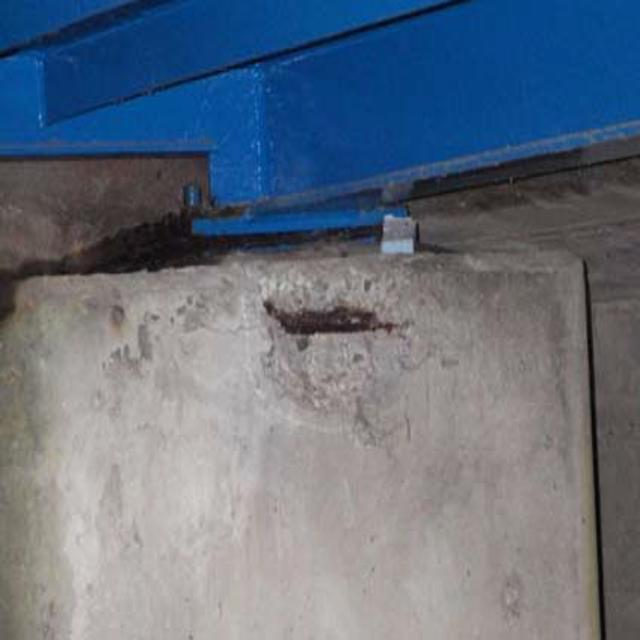spalling: (228, 224, 426, 427)
